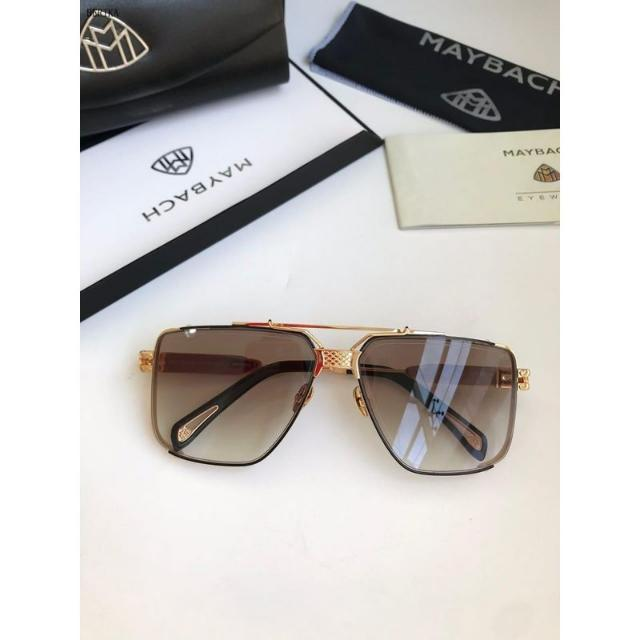glasses: (136, 316, 534, 476)
